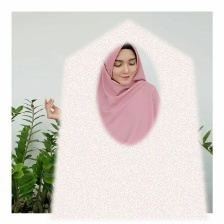Mukena: (49, 18, 208, 220)
